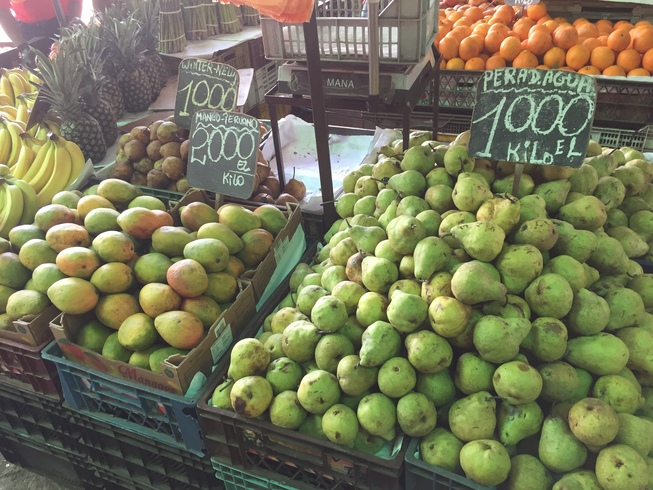precio: (470, 66, 592, 166), (189, 110, 259, 201), (178, 56, 242, 132)
